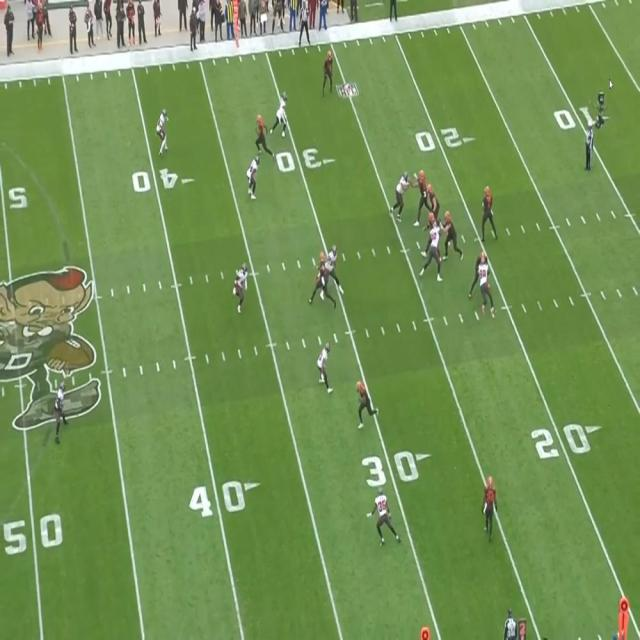db: (374, 491, 396, 542), (277, 92, 290, 136), (156, 107, 168, 153), (320, 346, 332, 390), (56, 388, 66, 439), (249, 156, 260, 202)
lb: (326, 242, 342, 298), (234, 264, 248, 310)
qb: (482, 184, 495, 238)
skill: (357, 378, 375, 428), (475, 251, 490, 306), (482, 475, 495, 538), (317, 250, 331, 307), (255, 115, 266, 154), (324, 48, 334, 89)
